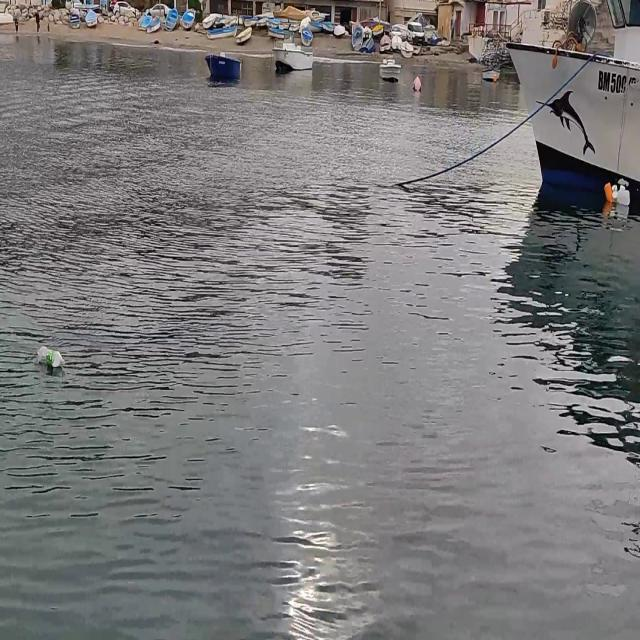Plastic bottle: (35, 344, 66, 372)
